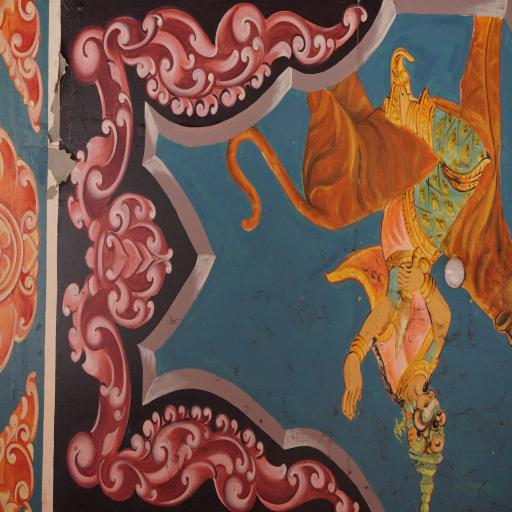hoa: (2, 127, 43, 394), (0, 369, 51, 512), (0, 0, 51, 139)
la: (56, 372, 367, 512), (63, 0, 379, 126), (60, 107, 178, 411)
than: (324, 50, 494, 512)
